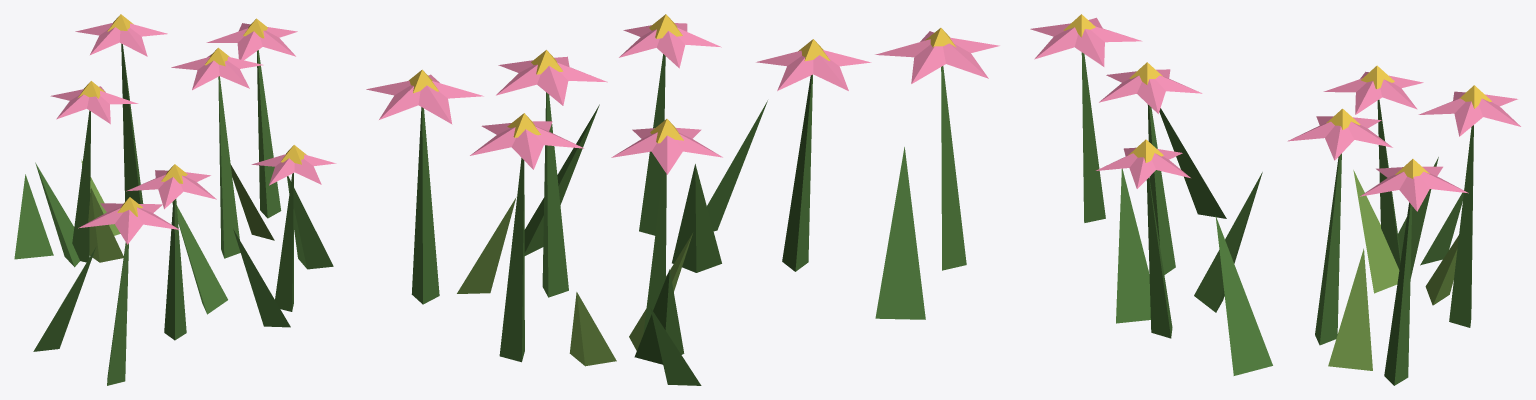
Rendered from flowers_pink.fbx.
3 views of the same model, side by side, from view 1: azimuth 30°, elevation 25°; view 2: azimuth 150°, elevation 25°; view 3: azimuth 270°, elevation 25° (orthographic). The views are drawn at different scales.
Visible parts, largest first — view 1: flowers_pink; view 2: flowers_pink; view 3: flowers_pink.
Boxes of the visible parts, x1=… form: flowers_pink: x1=14, y1=14, x2=336, y2=385; flowers_pink: x1=366, y1=14, x2=999, y2=385; flowers_pink: x1=1030, y1=14, x2=1520, y2=385.
Size of the model in its own units: 0.924 by 0.4944 by 0.9548.
